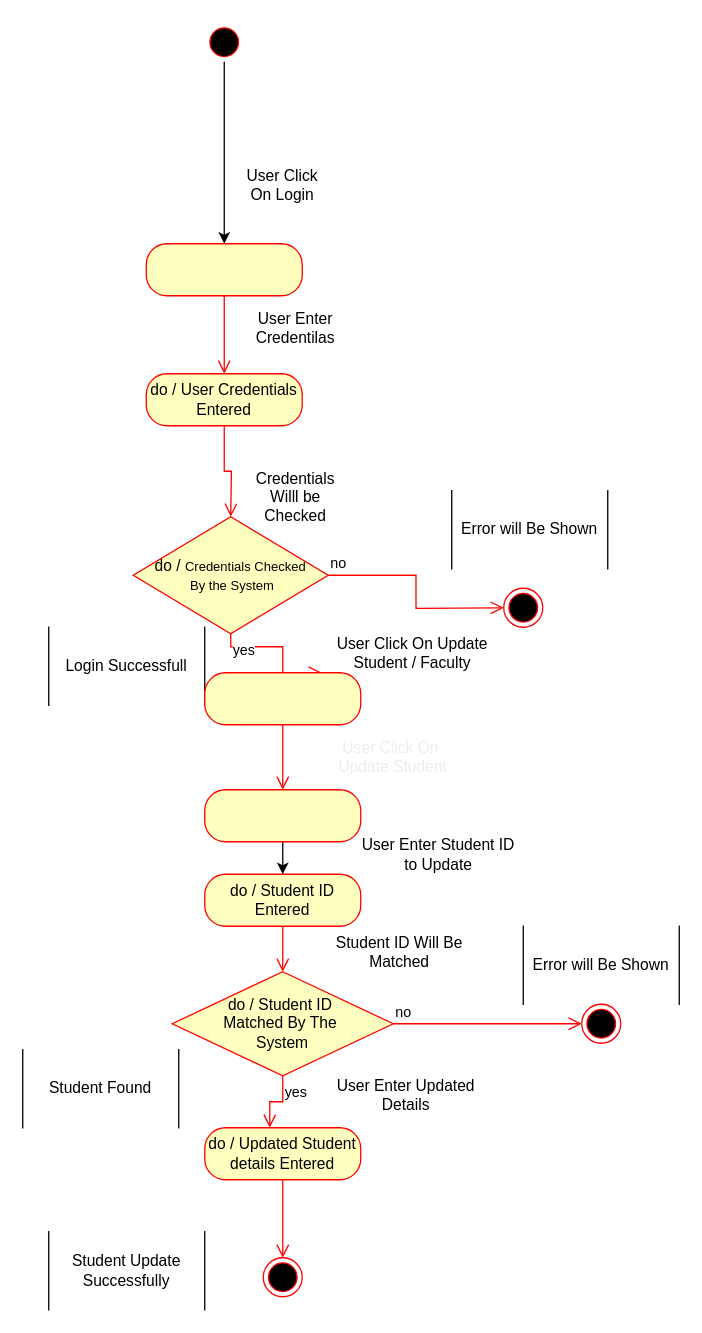
Some shapes in this 702 by 1333 pixel diagram are drawn without their labels. Here are the shapes that lost their labels. From the top down, the box of each, then its label:
(145, 242, 302, 296): do / Login Page Shown
(203, 671, 361, 725): do / Update Student / Faculty Displayed
(203, 788, 361, 842): do / Update Student Displayed
